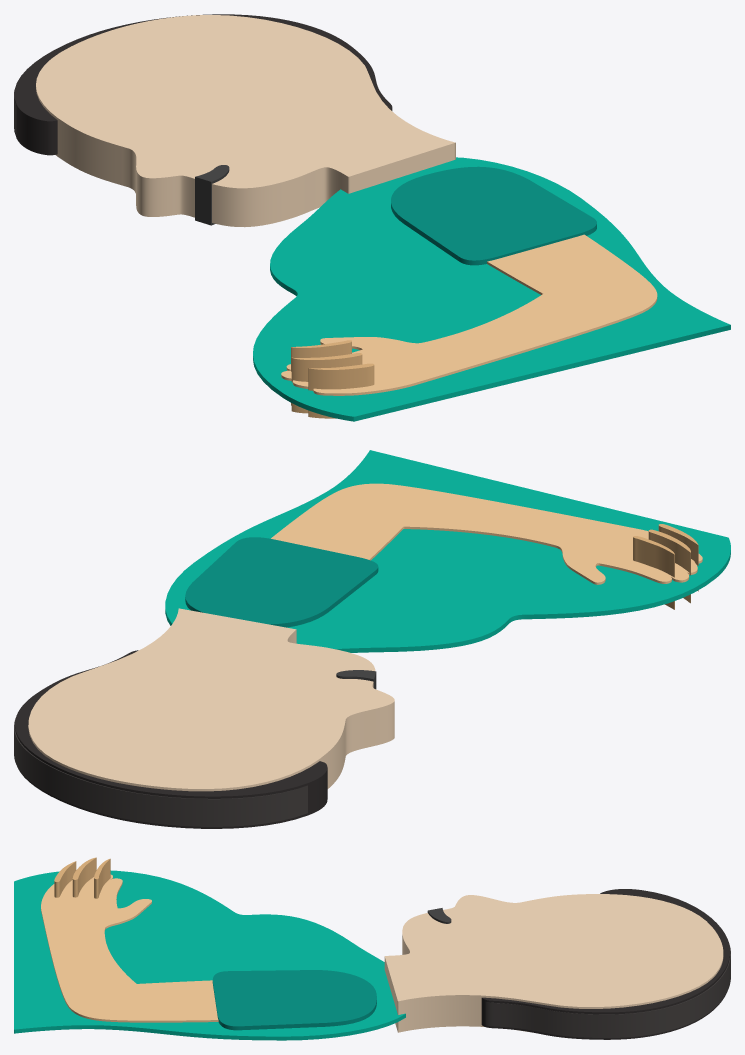
File: emoji_u1fac3_1f3fb.glb
3 views of the same model, one above another, from view 1: azimuth 30°, elevation 25°; view 2: azimuth 150°, elevation 25°; view 3: azimuth 270°, elevation 25° (orthographic). The views are drawn at different scales.
Visible parts, largest first — view 1: emoji_u1fac3_1f3fb; view 2: emoji_u1fac3_1f3fb; view 3: emoji_u1fac3_1f3fb.
Boxes of the visible parts, x1=… form: emoji_u1fac3_1f3fb: x1=14, y1=14, x2=730, y2=421; emoji_u1fac3_1f3fb: x1=14, y1=450, x2=730, y2=828; emoji_u1fac3_1f3fb: x1=14, y1=857, x2=730, y2=1040.
Size of the model in its own units: 0.0182 by 0.0024 by 0.0332.
